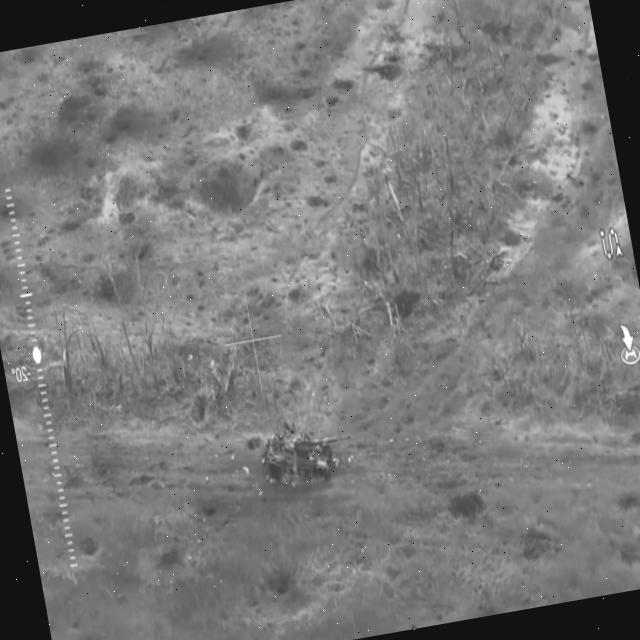AIFV: (258, 418, 356, 489)
